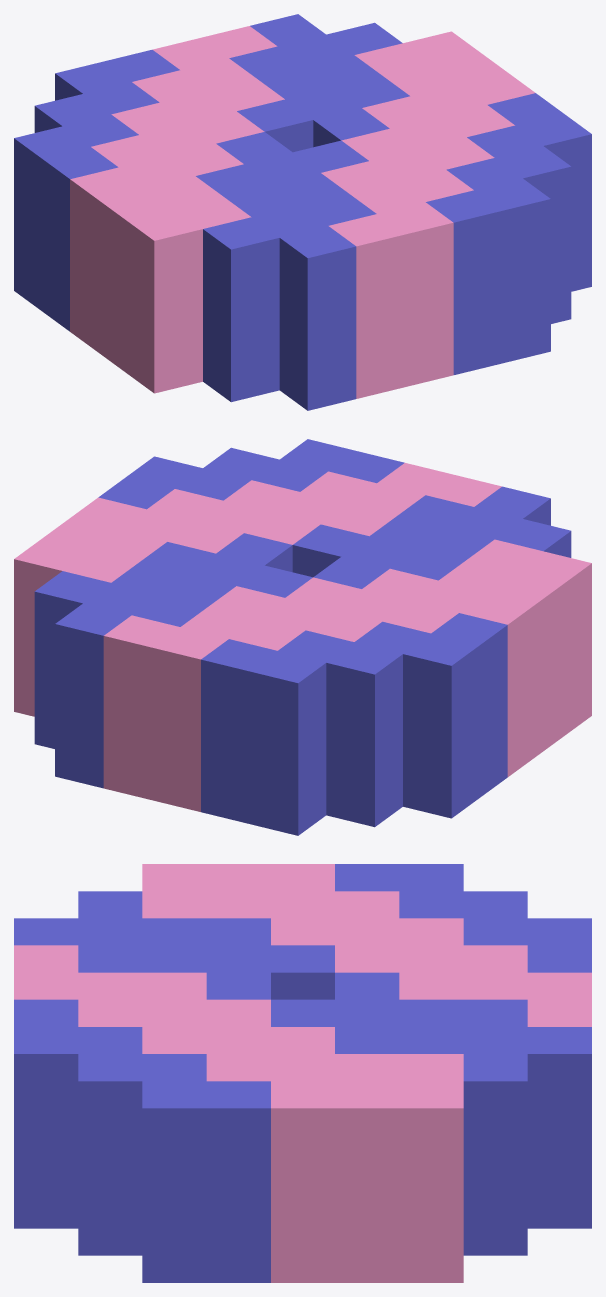
Rendered from Eruption-3.obj.
3 views of the same model, one above another, from view 1: azimuth 30°, elevation 25°; view 2: azimuth 150°, elevation 25°; view 3: azimuth 270°, elevation 25° (orthographic). The views are drawn at different scales.
Bounding box in the file's own units: 0.9 × 0.3 × 0.9.
1 material, 1 textured.
